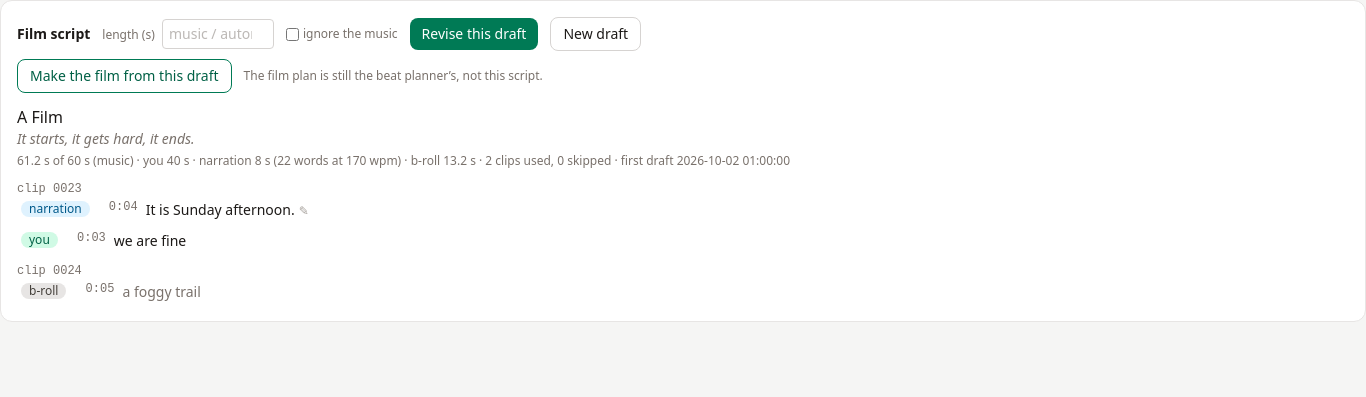
Test case: ScriptDraftPanel narration pins › does nothing when an edit is cancelled or unchanged
Step 1. Click the button named "Edit narration 1" → (304, 211), box [299, 203, 309, 219]
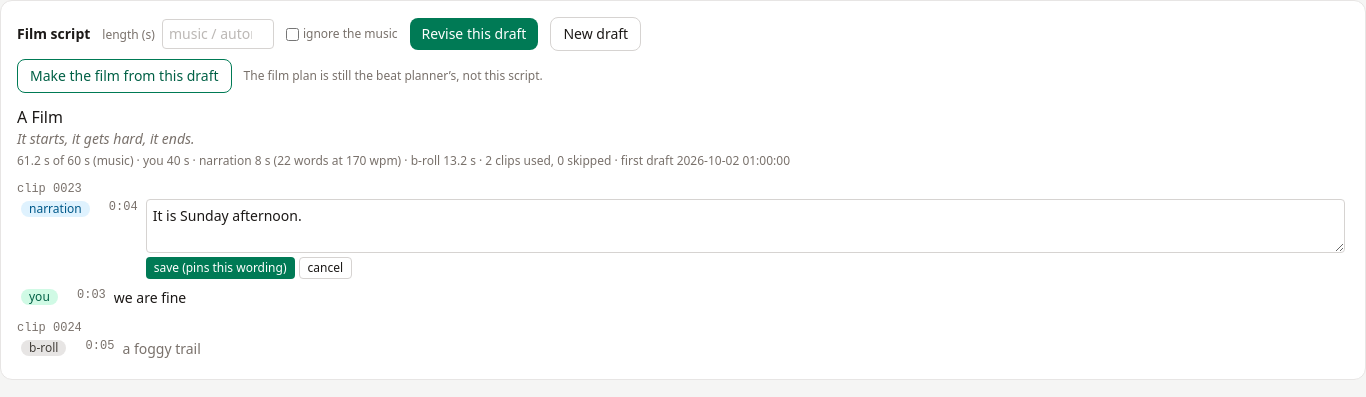
Step 2. Click the button "cancel" → (325, 268), box [298, 257, 352, 279]
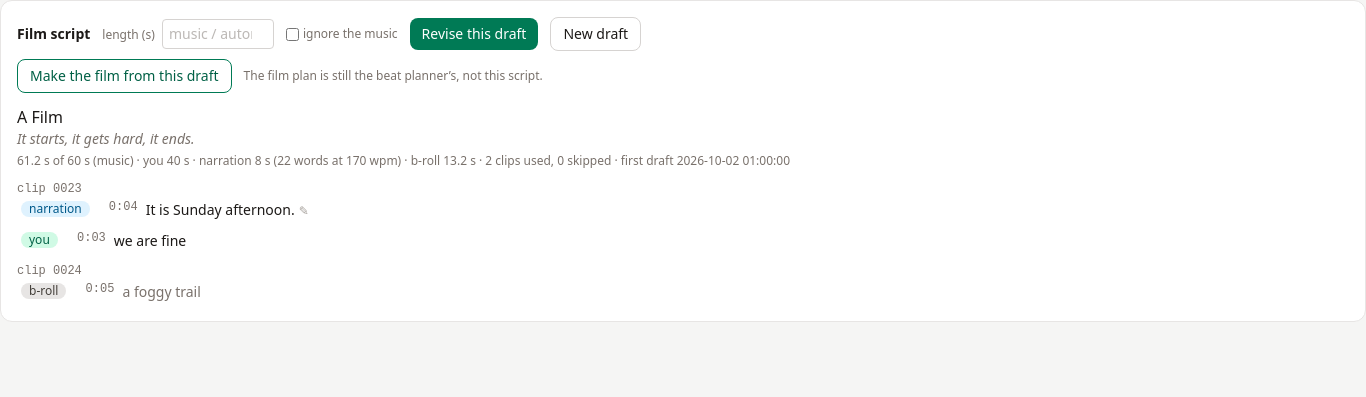
Step 3. Click the button named "Edit narration 1" → (304, 211), box [299, 203, 309, 219]
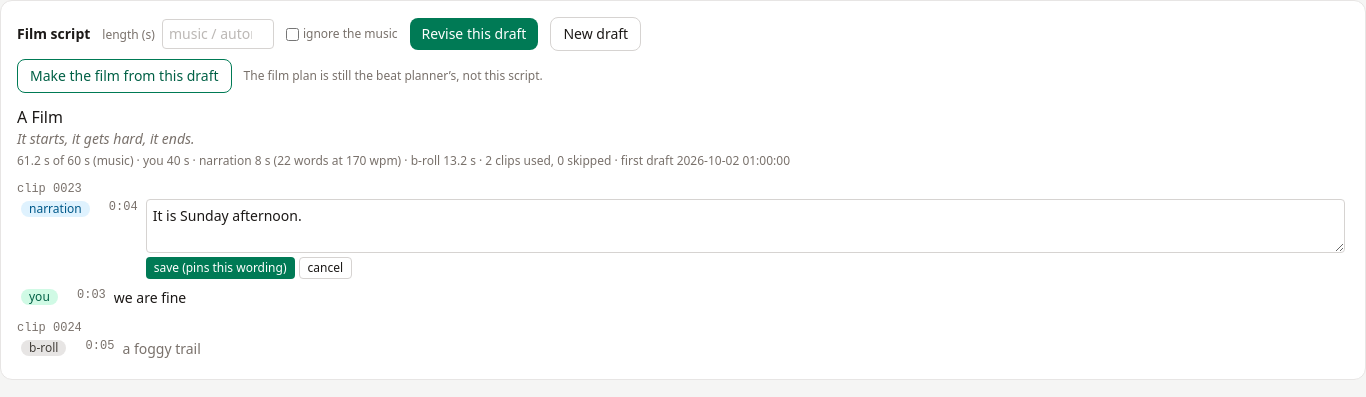
Step 4. Click the button "save (pins this wording)" → (220, 268), box [146, 257, 294, 279]
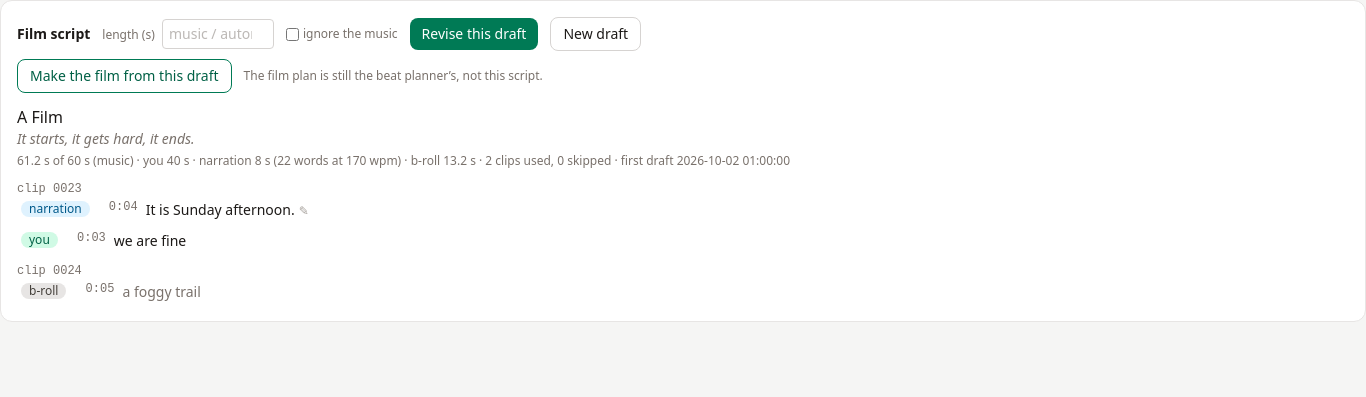
Now the text "It is Sunday afternoon." is shown, box [146, 200, 295, 219]
